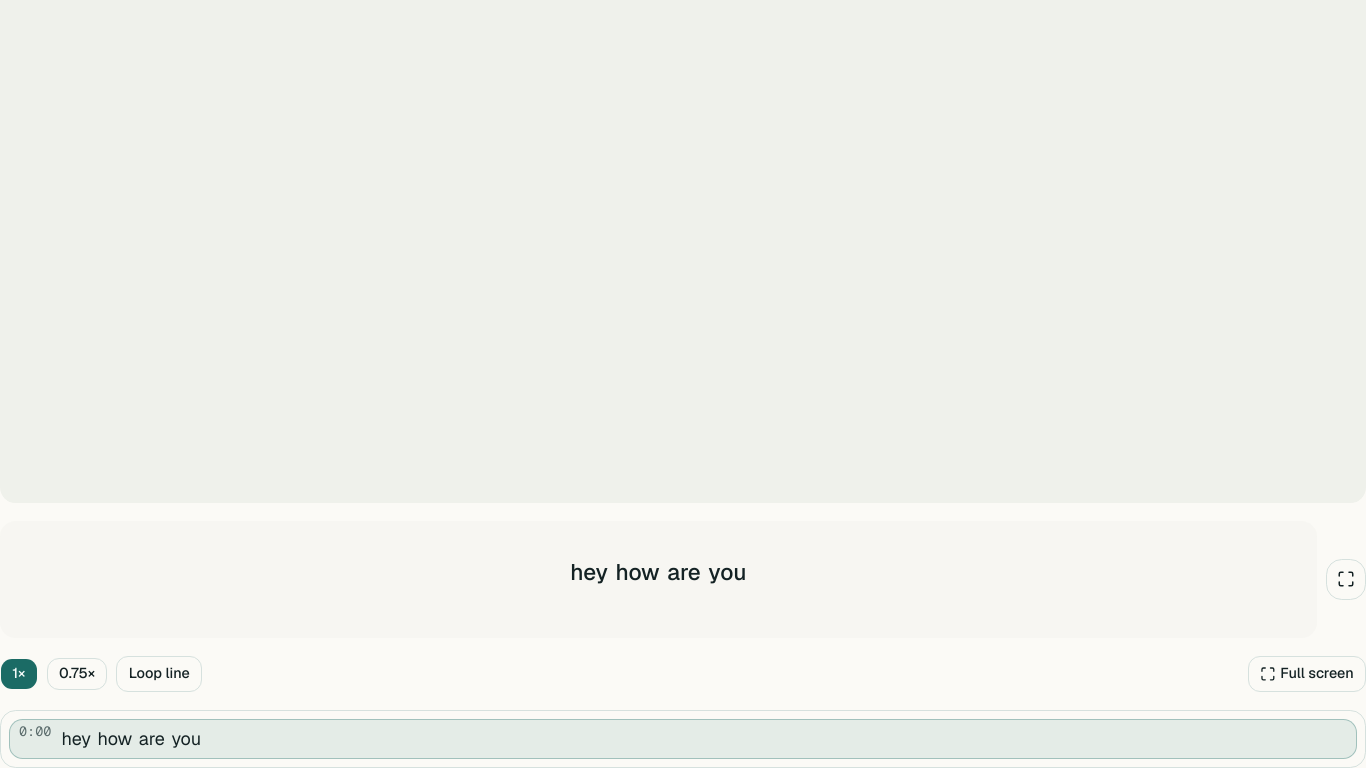
Scenario: B1 — full screen, where people look for it › the row's button reads Full screen with an icon; its exit reads Exit full screen
The image size is (1366, 768).
(page scrolled)
Expected: the 2nd icon is shown, 1260,666 -> 1276,682
Click the button with test id "focus-enter": [1307, 674] box 1248,656 -> 1365,692
(page scrolled)
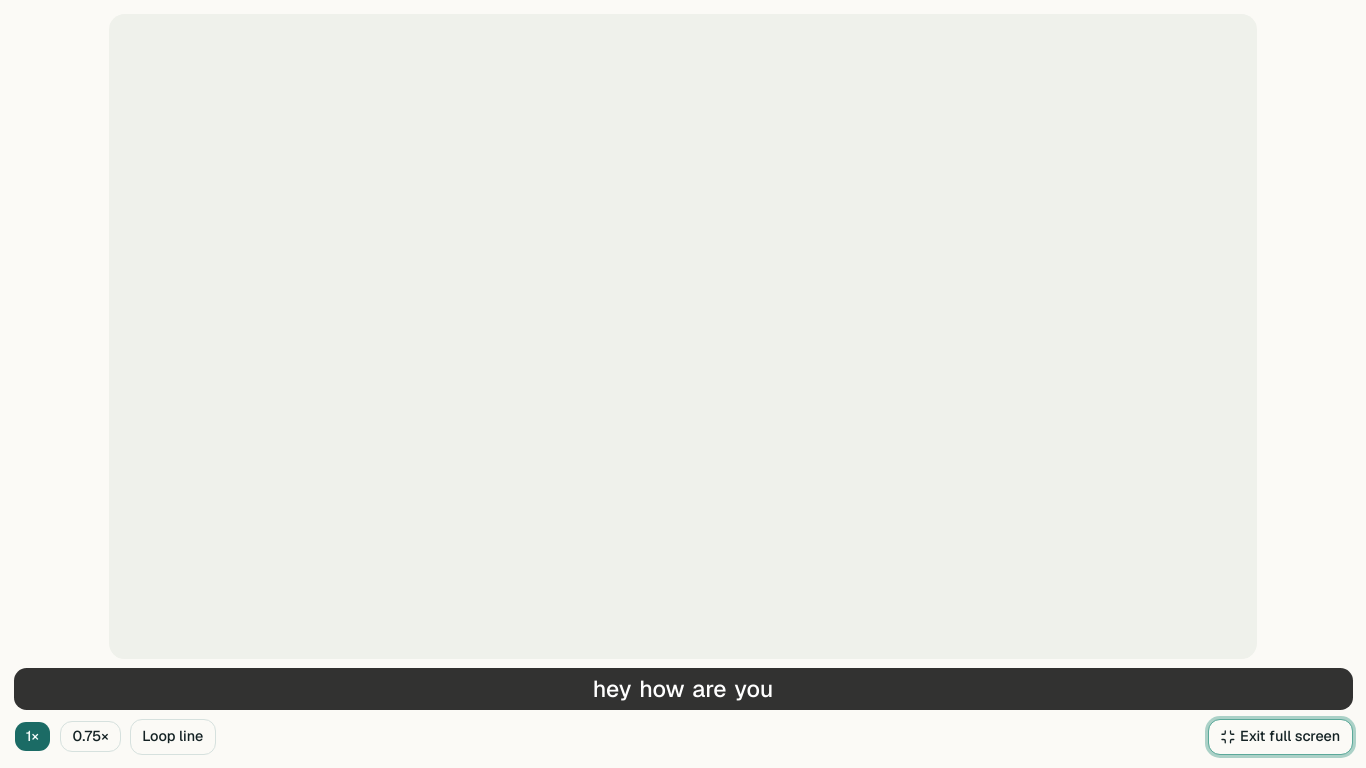
Expected: the icon is shown, 1220,729 -> 1236,744
Expected: the button with test id "focus-exit" reads "Exit full screen", 1208,718 -> 1352,754
